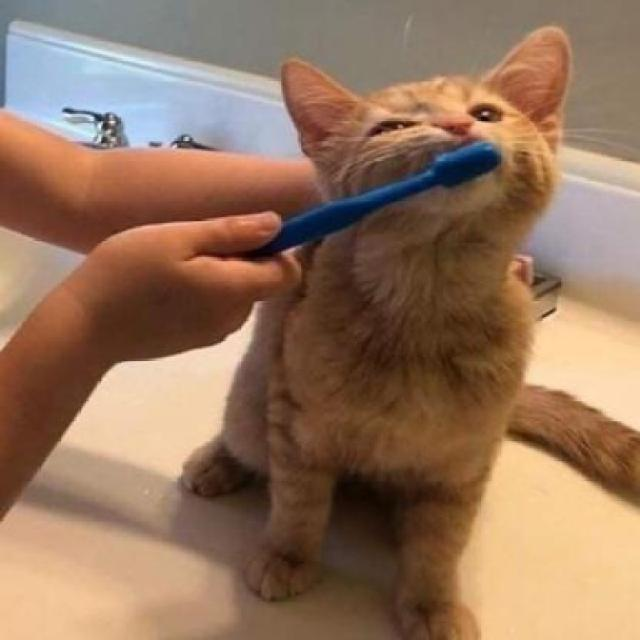cat: (231, 18, 640, 640)
